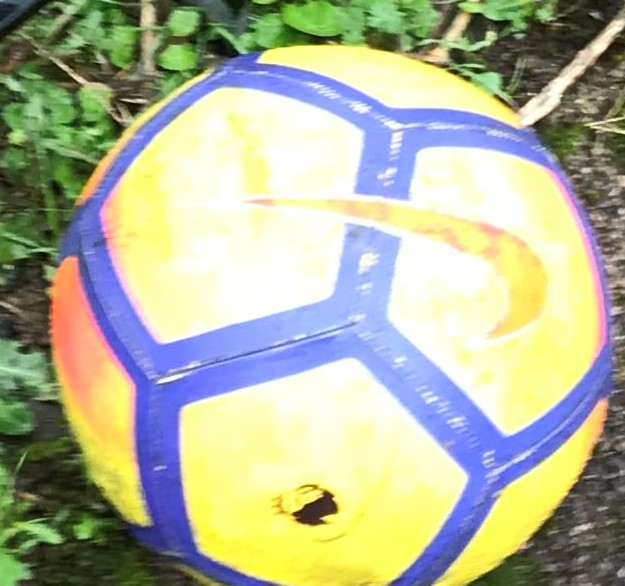football: (24, 38, 612, 578)
